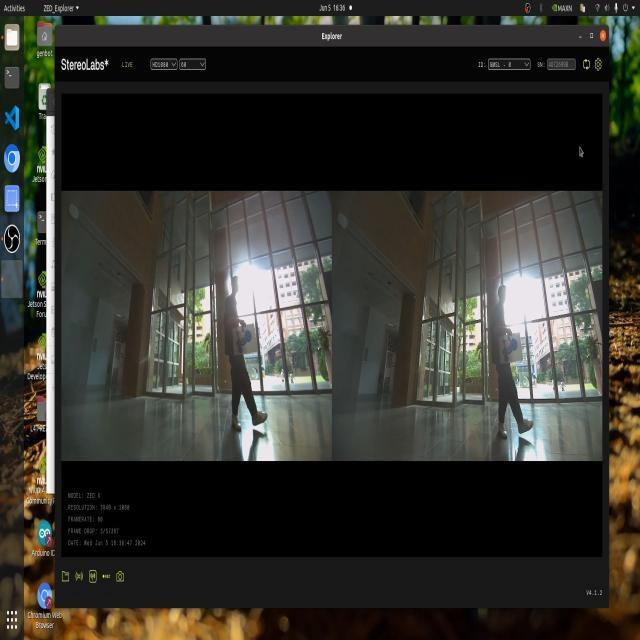blue: (500, 337, 526, 364), (241, 326, 255, 354)
